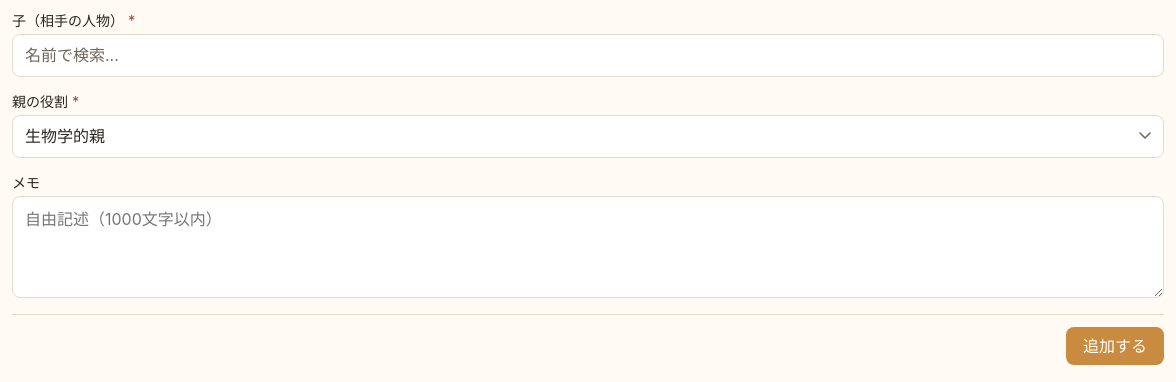
Test: PersonSearchCombobox › input に文字入力 → listbox に displayName 部分一致の人物が表示される
Type "田中" into the field with placeholder "名前で検索..." at (588, 55), box 13,34 -> 1163,76
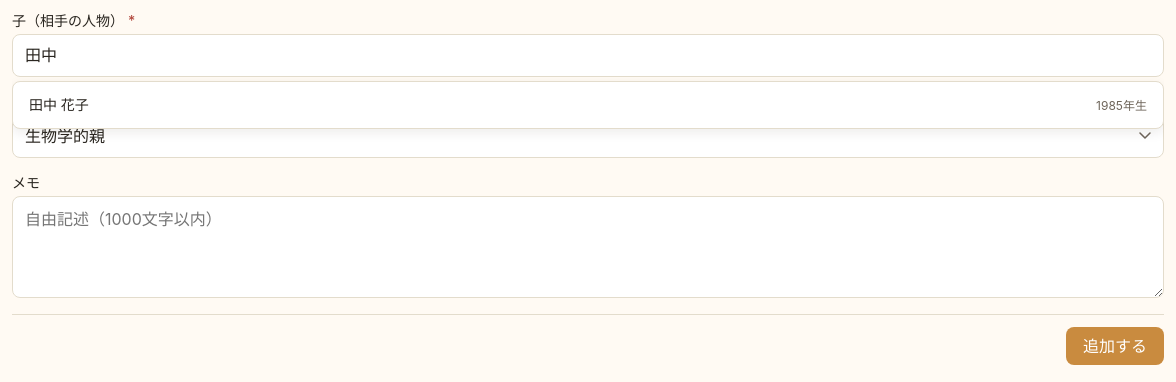
Expected: the list is shown, 12,81 -> 1164,130
Expected: the text "田中 花子" is shown, 29,94 -> 89,116
